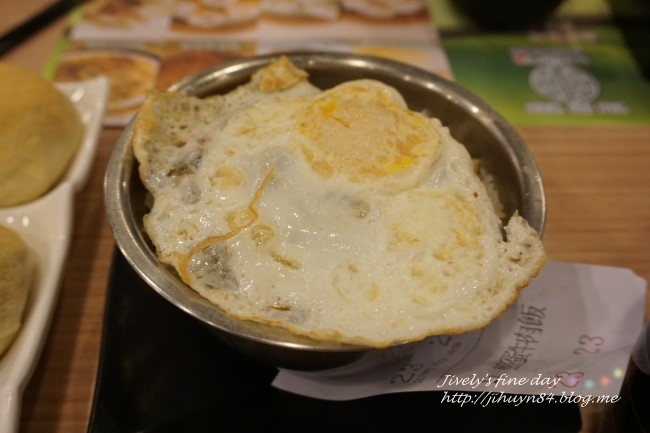fried egg: (144, 90, 503, 326)
